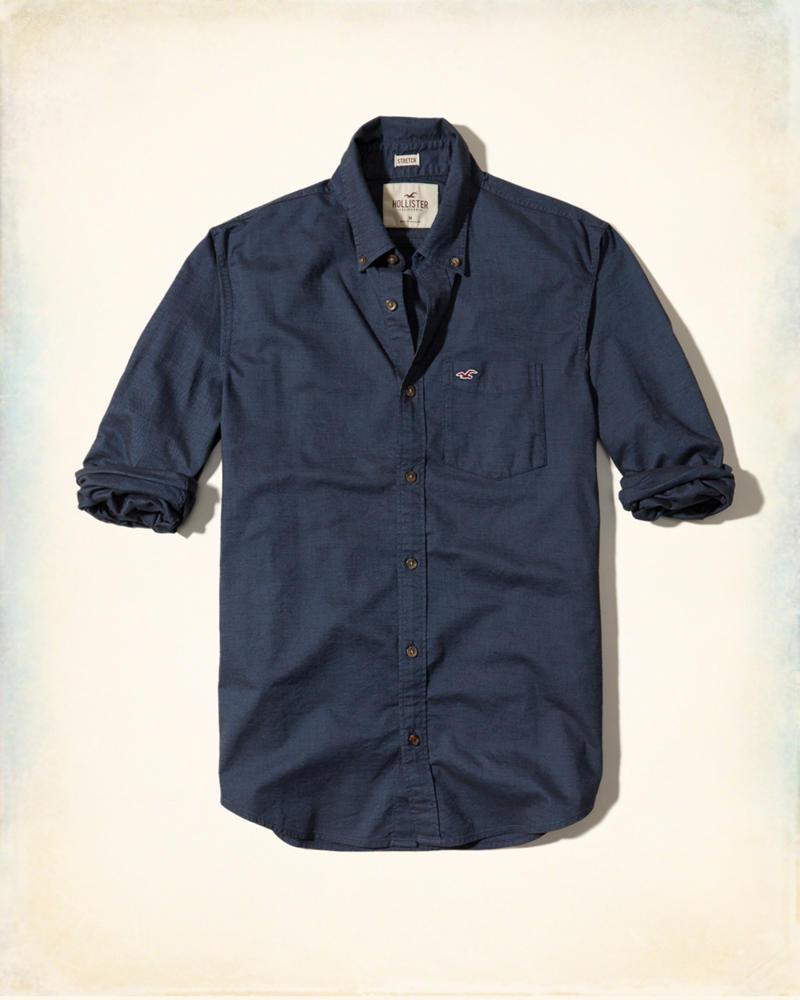teeshirt: (77, 116, 736, 854)
